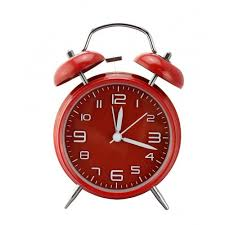alarm_clock: (52, 19, 182, 210)
